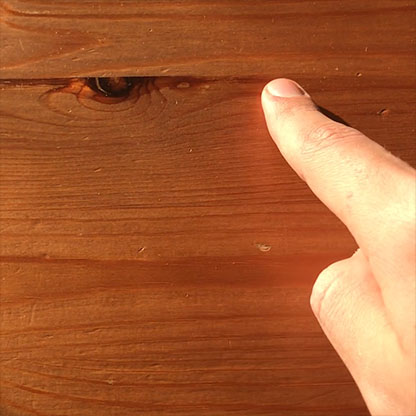fingertip: (250, 68, 330, 123)
